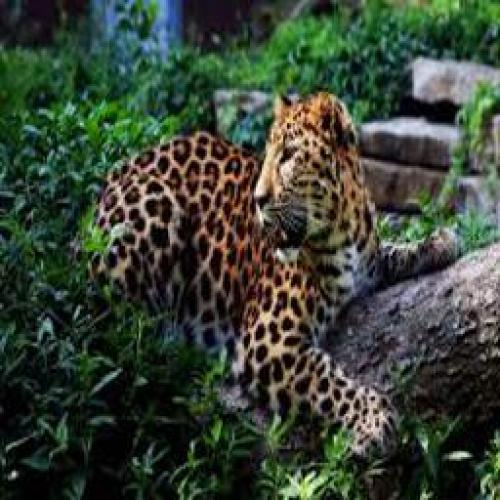amur_leopard-endangered: (90, 91, 460, 458)
